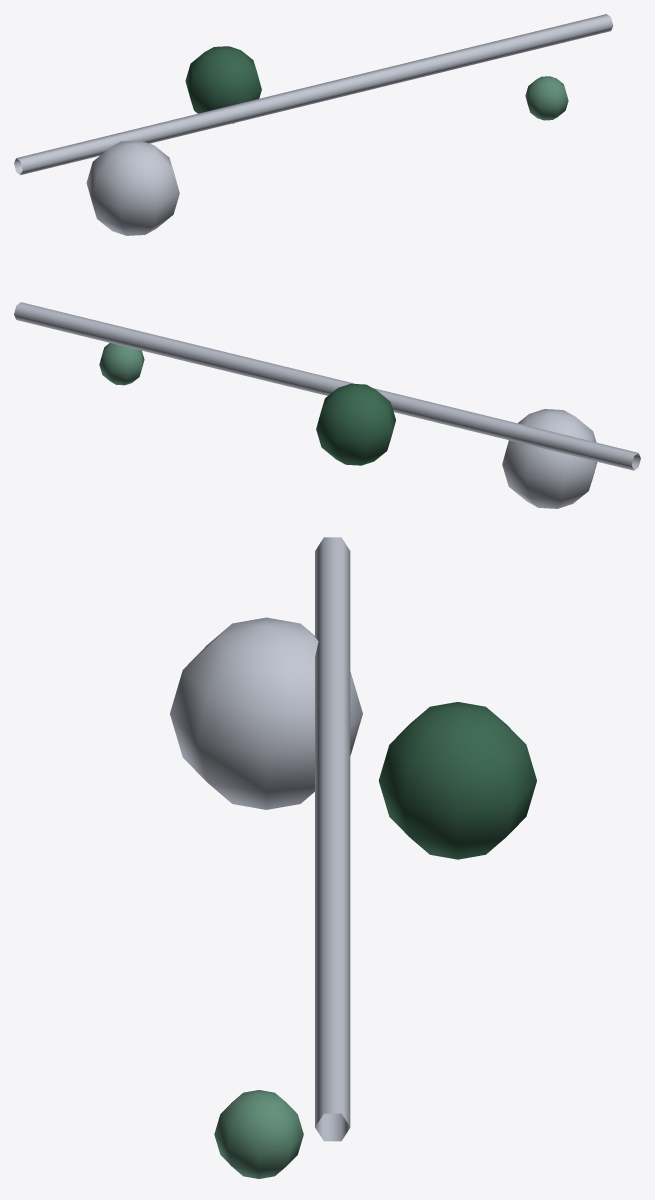
The model's file is section-1.obj.
3 renders of one model, top to bottom at view 1: azimuth 30°, elevation 25°; view 2: azimuth 150°, elevation 25°; view 3: azimuth 270°, elevation 25°, orthographic. The views are drawn at different scales.
Size of the model in its own units: 0.926 by 0.1704 by 0.3303.
